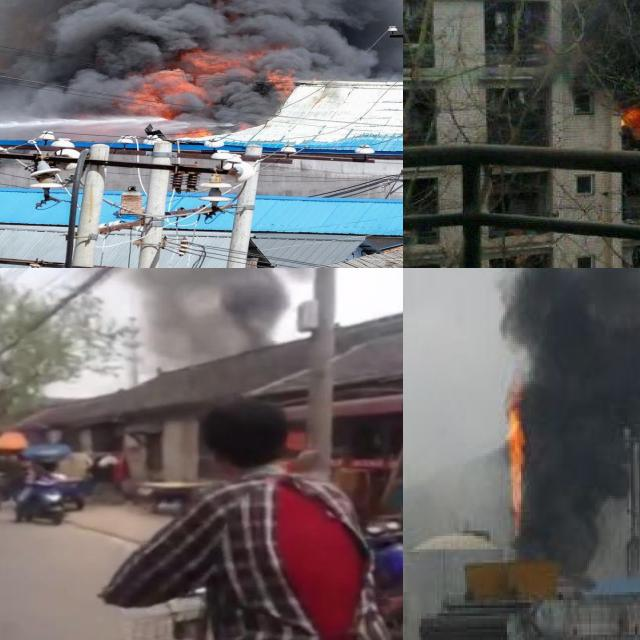fire: (122, 49, 290, 127), (501, 381, 529, 531), (615, 104, 640, 134)
smoke: (496, 268, 640, 587), (0, 0, 403, 112), (155, 268, 311, 336)
